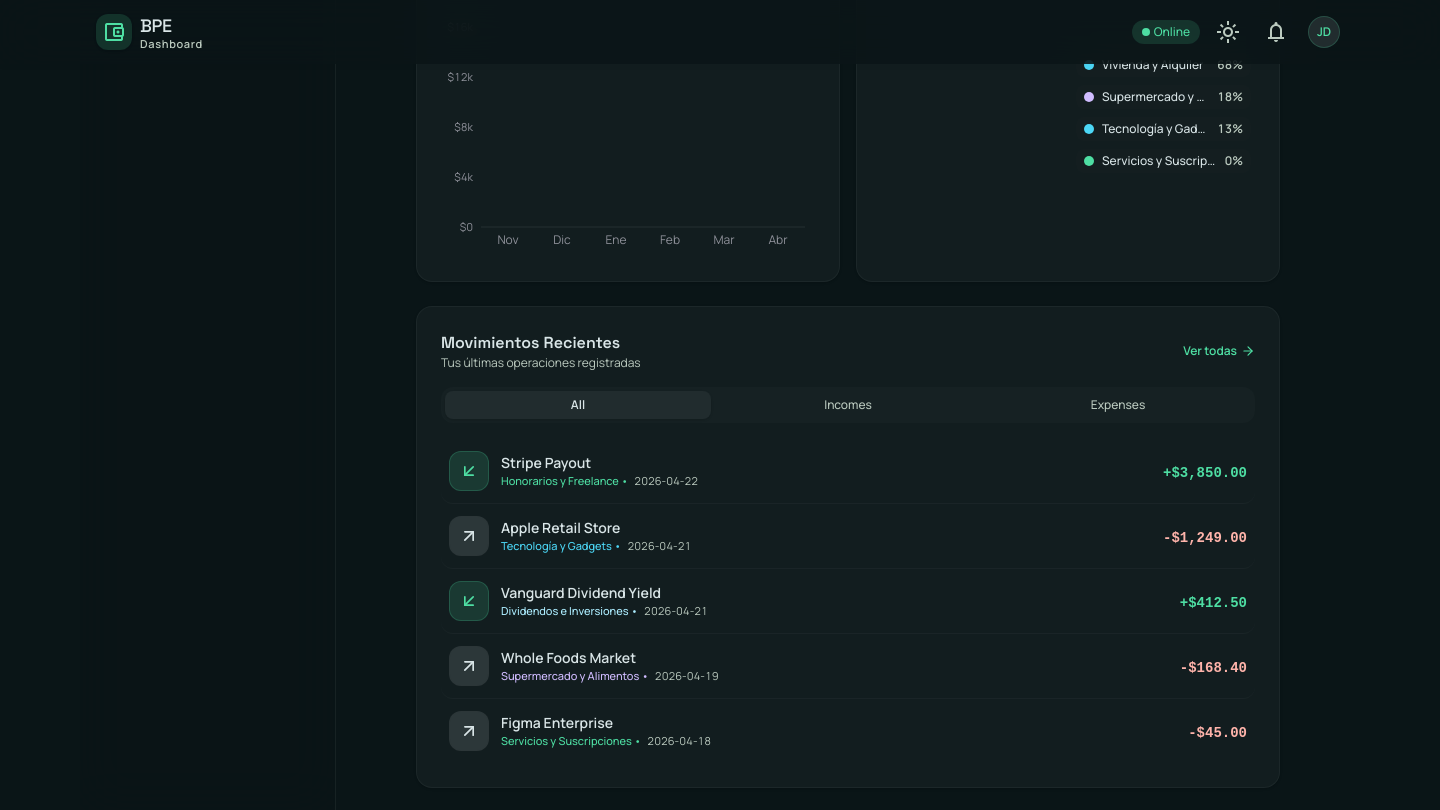
Scenario: App & Router Shell (Google Stitch UI) › filters transactions when selecting All, Incomes, and Expenses tabs
(page scrolled)
Expected: the text "Stripe Payout" is shown, [501,453,591,472]
Expected: the text "Apple Retail Store" is shown, [501,518,620,537]
# Filter by Incomes only
What coordinates should you click on to do the following:
click the tab "Incomes"
I would click on:
 (848, 405)
Its box is [715,391,981,419].
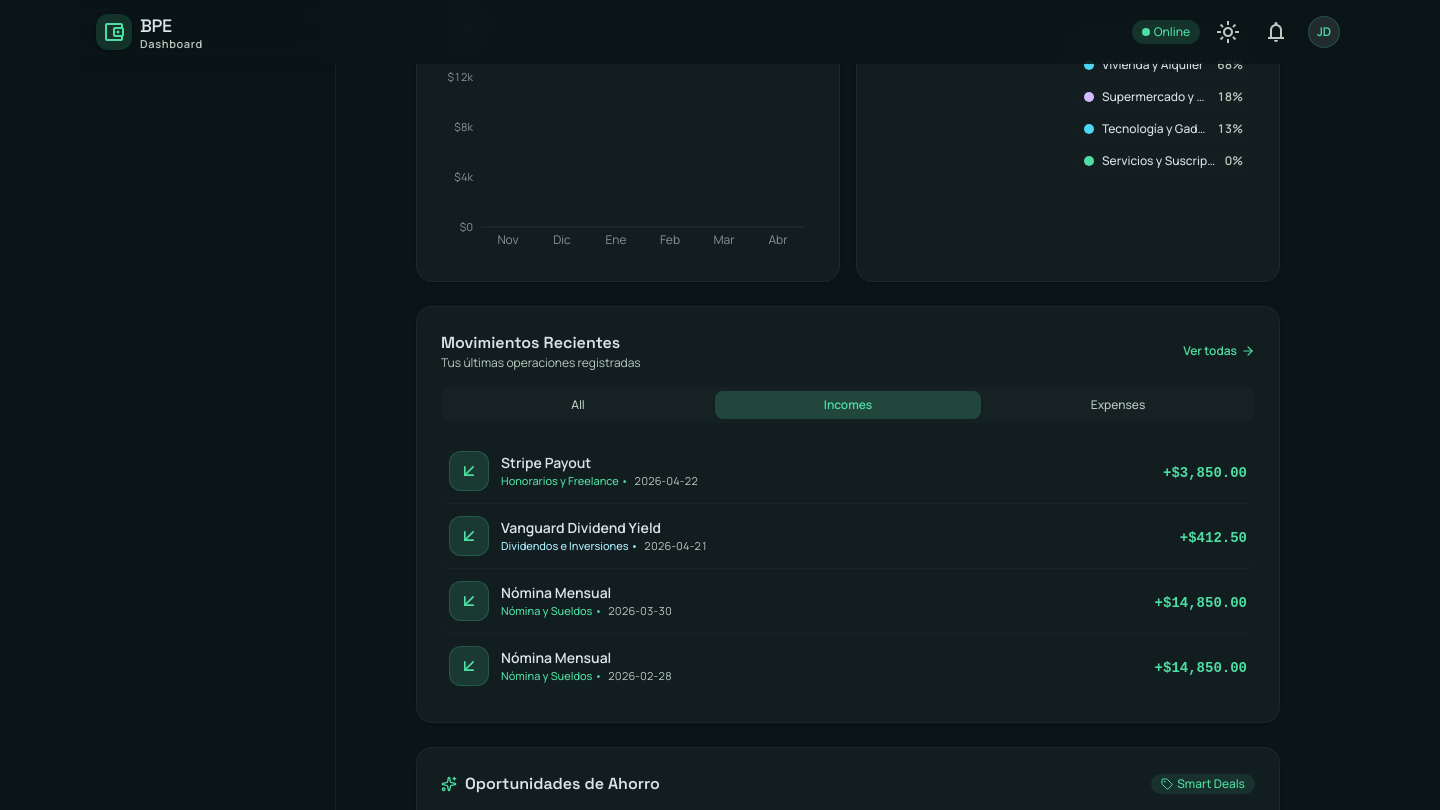
Expected: the text "Stripe Payout" is shown, [501,453,591,472]
Expected: the text "Apple Retail Store" is gone
# Filter by Expenses only
What coordinates should you click on to do the following:
click the tab "Expenses"
I would click on:
 (1118, 405)
Its box is [985,391,1251,419].
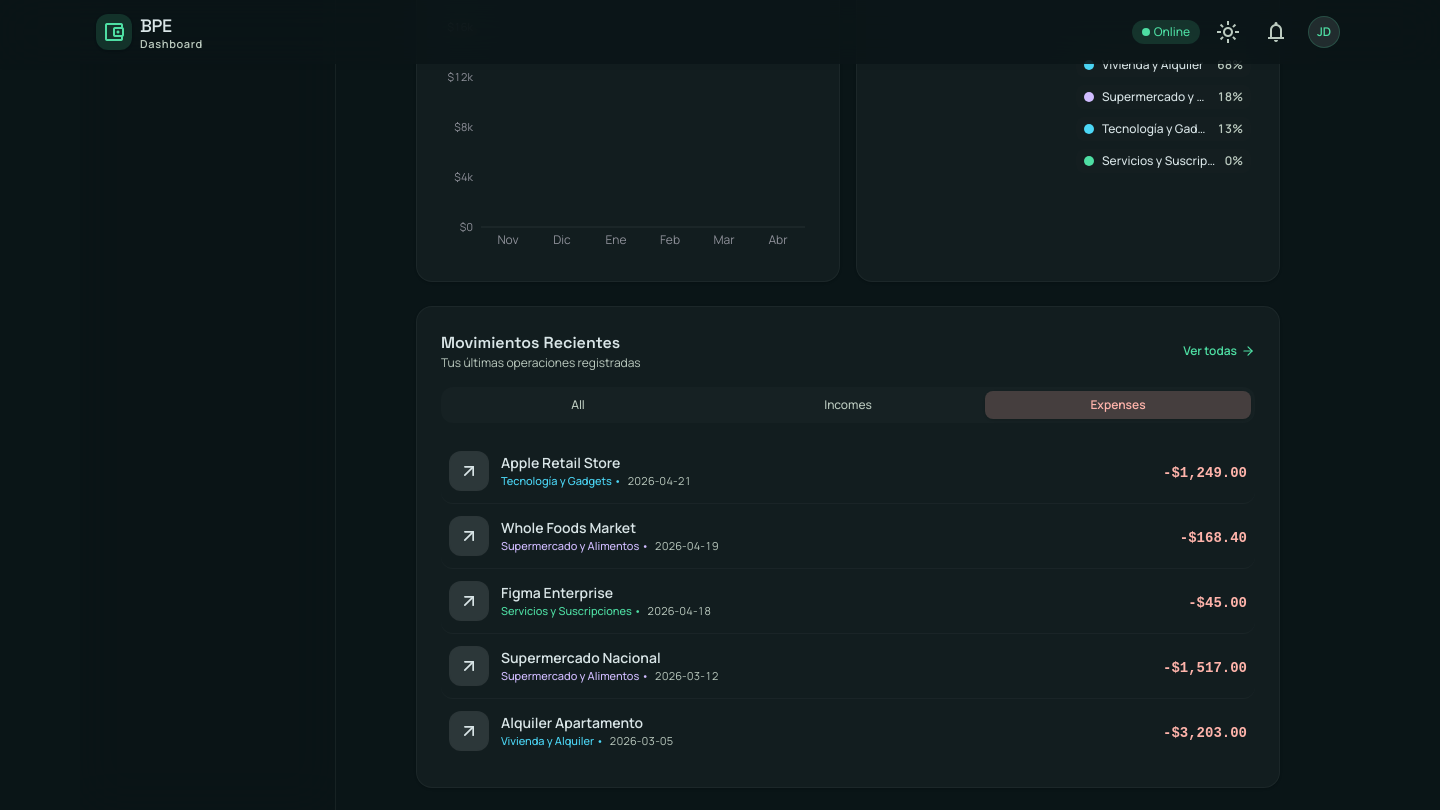
Expected: the text "Stripe Payout" is gone
Expected: the text "Apple Retail Store" is shown, [501,453,620,472]
Expected: the text "Whole Foods Market" is shown, [501,518,636,537]
# Reset to All
What coordinates should you click on to do the following:
click the tab "All"
I would click on:
 (578, 405)
Its box is [445,391,711,419].
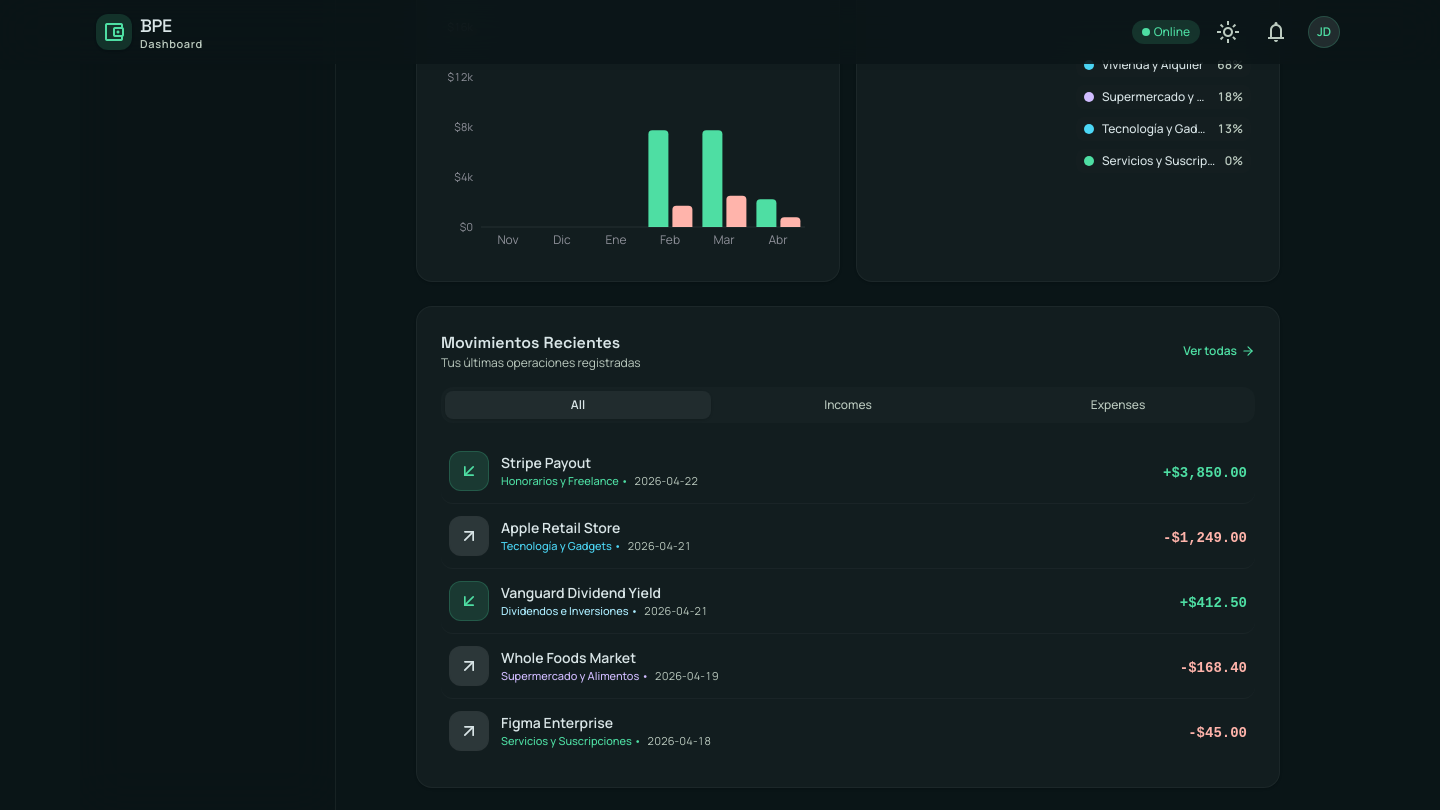
Expected: the text "Stripe Payout" is shown, [501,453,591,472]
Expected: the text "Apple Retail Store" is shown, [501,518,620,537]
